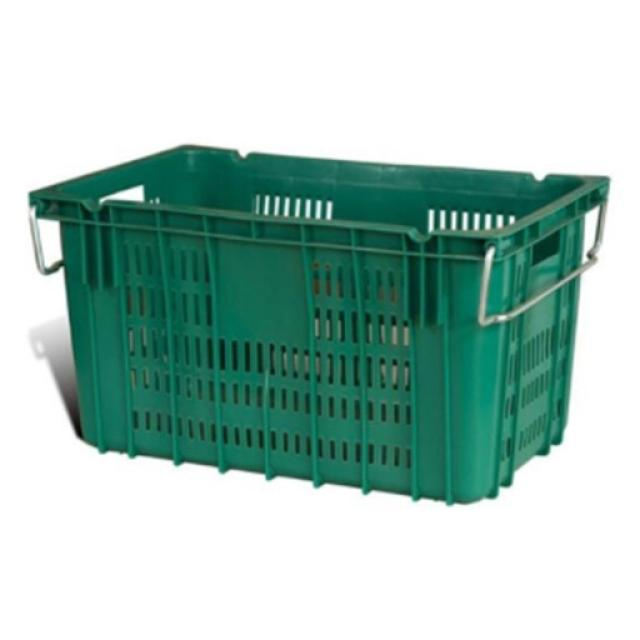basket: (9, 135, 611, 512)
